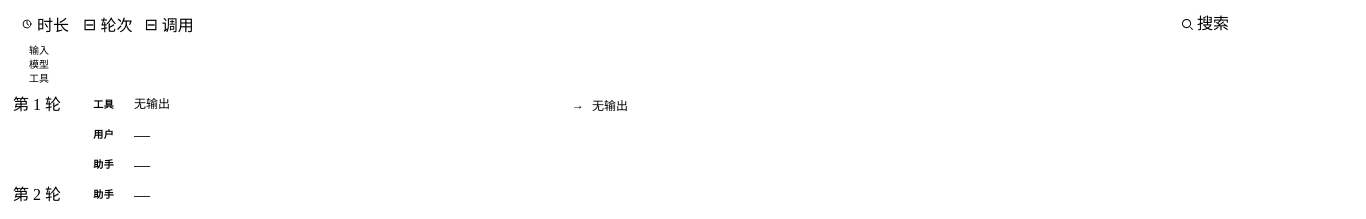
it: ledger and inspector (standalone host) › renders the event ledger with its toolbar, timeline, and turn collapse controls
Expected: the element named "轨迹工具栏" is shown, [8,8,1358,40]
Expected: the element named "轨迹时间线" is shown, [29,45,49,84]
Click the button with aria-label "收起所有轮次" at [108, 24], box [78,14,137,34]
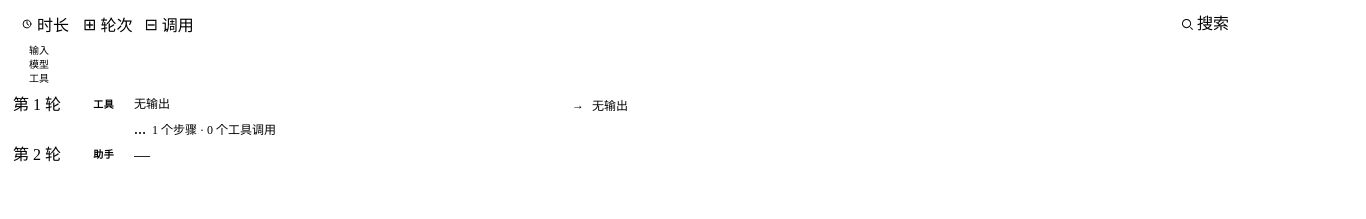
Now the row "… 1 个步骤 · 0 个工具调用" is shown, box [8,120,1358,140]
Click the button with aria-label "展开所有轮次" at [108, 24], box [78,14,137,34]
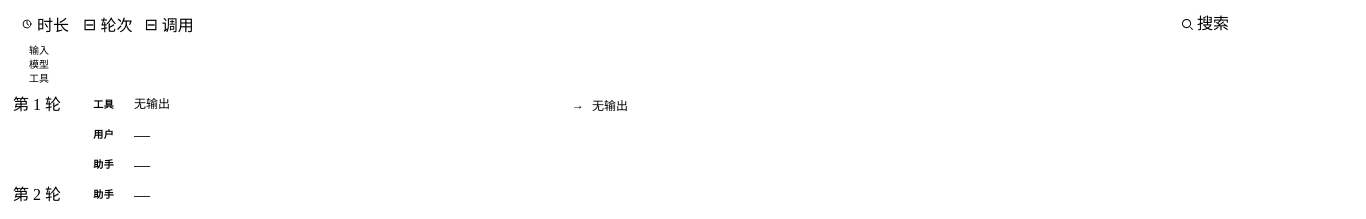
Now the row "用户 —" is shown, box [8,120,1358,150]
